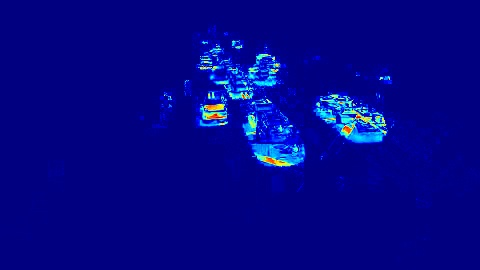vehicle: (246, 110, 293, 163), (322, 98, 371, 136), (255, 58, 279, 81), (204, 94, 221, 122), (228, 79, 247, 95)
